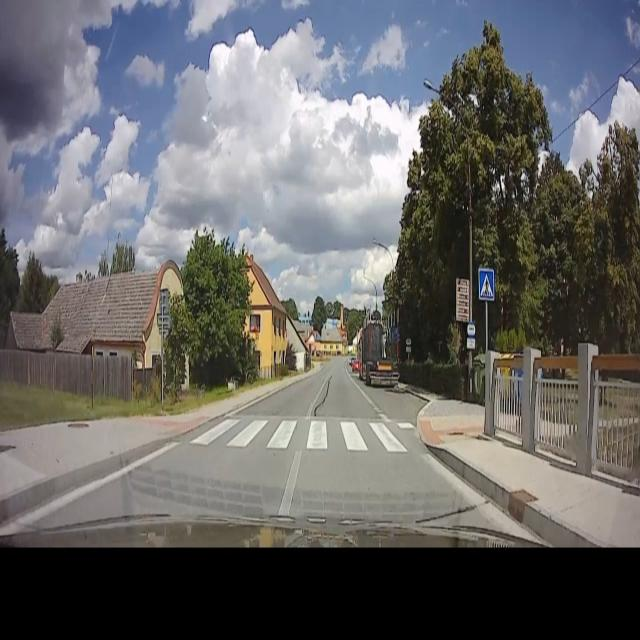Pedestrian crosswalk: (200, 409, 408, 458), (477, 266, 496, 302)
